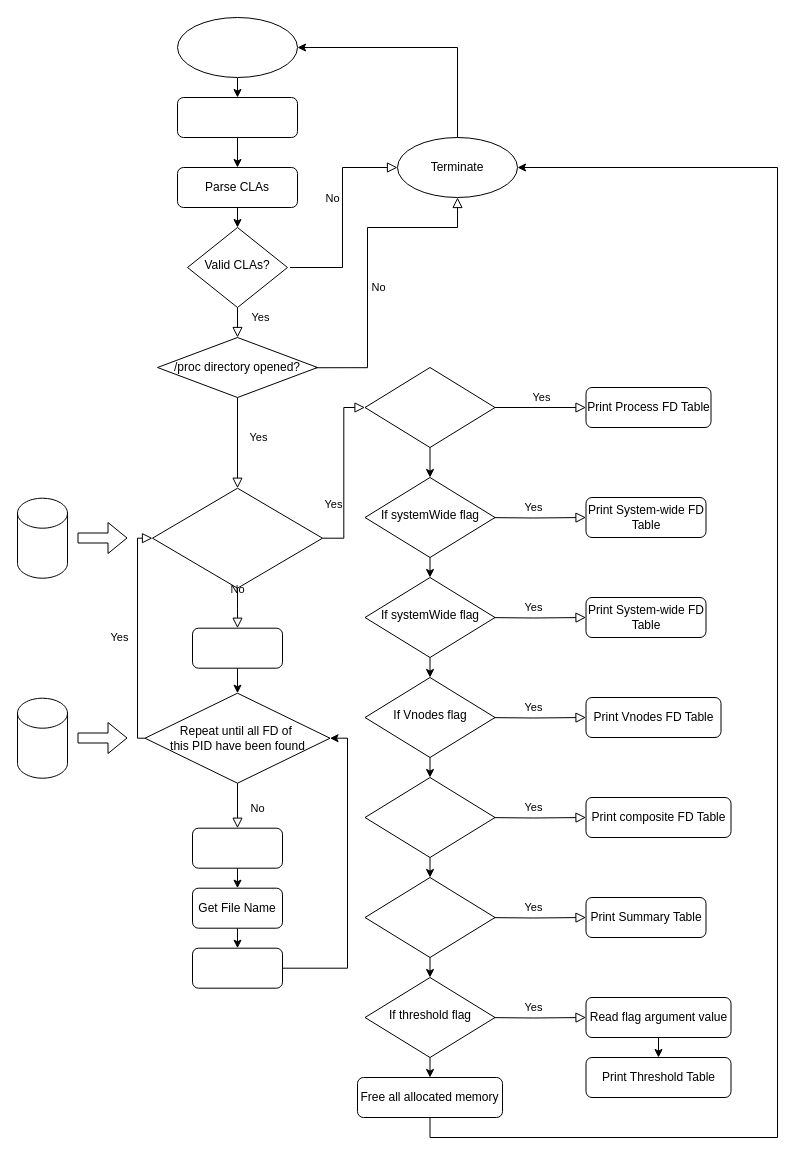
Image size: 803x1163. Some labels were removed from this diagram. The shapes that lost their labels are listed below. From the top down, each one's centre as x and y in pixels, then its label:
At pixel 237 47: "Start".
At pixel 237 117: "Read CLAs".
At pixel 429 407: "If per-process flag".
At pixel 237 537: "Repeat until all processes have been found in /proc".
At pixel 237 647: "Get PID".
At pixel 429 817: "If composite flag".
At pixel 237 847: "Get FD number".
At pixel 429 917: "If summary flag".
At pixel 237 967: "Get Inode".
